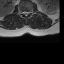CCS_stenosis: (24, 9, 27, 19)
LFS_normal: (29, 9, 31, 15)
LLS_normal: (27, 9, 29, 16)
RFS_normal: (20, 8, 22, 15)
RLS_normal: (22, 9, 24, 16)
